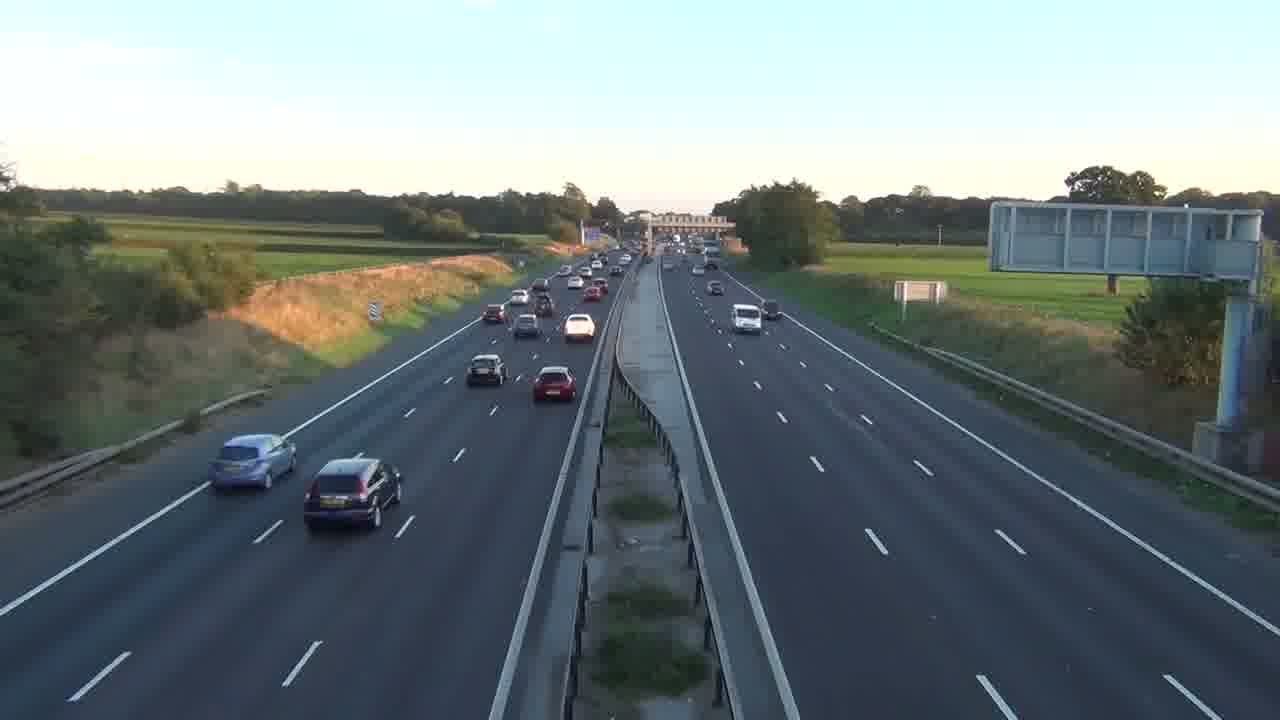car: (303, 455, 403, 530), (207, 432, 297, 492), (532, 365, 577, 402), (465, 353, 505, 388)
